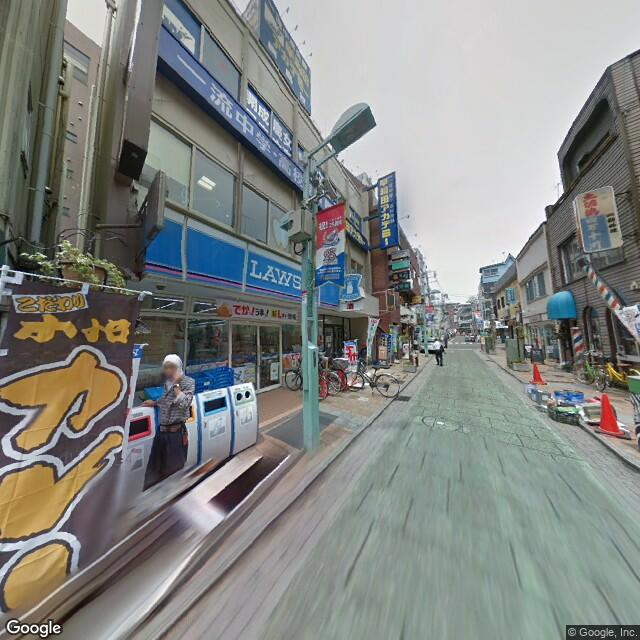lawson: (148, 214, 316, 303), (336, 272, 362, 305)
